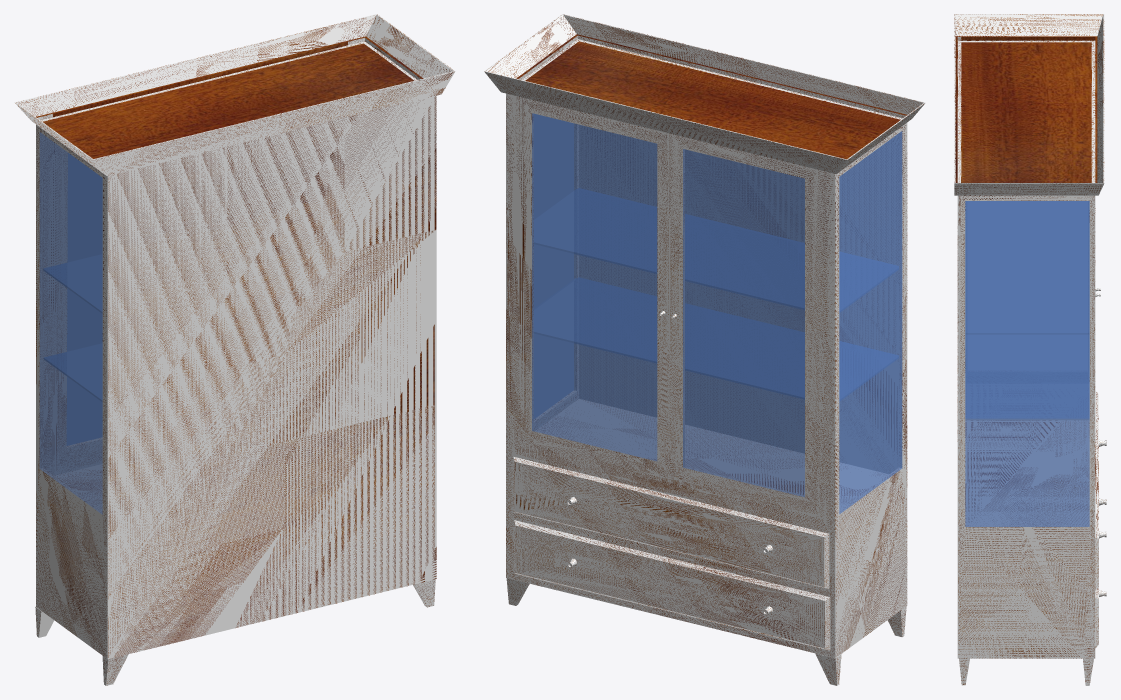
The picture shows the model from 3 angles, left to right: view 1: azimuth 30°, elevation 25°; view 2: azimuth 150°, elevation 25°; view 3: azimuth 270°, elevation 25°; orthographic projection. The views are drawn at different scales.
Visible parts, largest first — view 1: mesh2_mesh2-geometry, mesh5_mesh5-geometry, mesh4_mesh4-geometry; view 2: mesh2_mesh2-geometry, mesh5_mesh5-geometry, mesh4_mesh4-geometry; view 3: mesh2_mesh2-geometry, mesh5_mesh5-geometry, mesh4_mesh4-geometry.
Boxes of the visible parts, box(x1,y1,x2,y2) form: mesh2_mesh2-geometry: box(14, 14, 455, 685); mesh5_mesh5-geometry: box(44, 255, 101, 312); mesh4_mesh4-geometry: box(44, 344, 101, 400); mesh2_mesh2-geometry: box(484, 14, 925, 658); mesh5_mesh5-geometry: box(534, 188, 898, 311); mesh4_mesh4-geometry: box(534, 278, 898, 400); mesh2_mesh2-geometry: box(954, 14, 1106, 685); mesh5_mesh5-geometry: box(966, 201, 1088, 333); mesh4_mesh4-geometry: box(965, 335, 1089, 419).
Bounding box in the file's own units: 0.5662 × 0.7957 × 0.2151.
